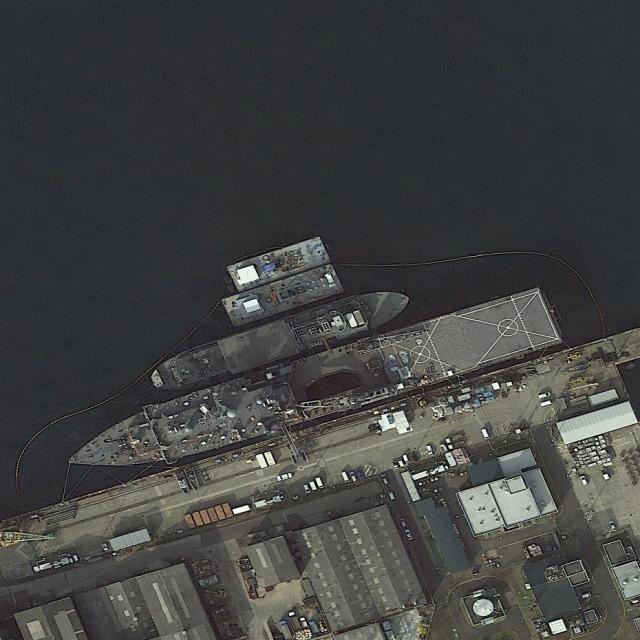Landing: (58, 281, 564, 494)
Other Warship: (145, 279, 416, 400)
